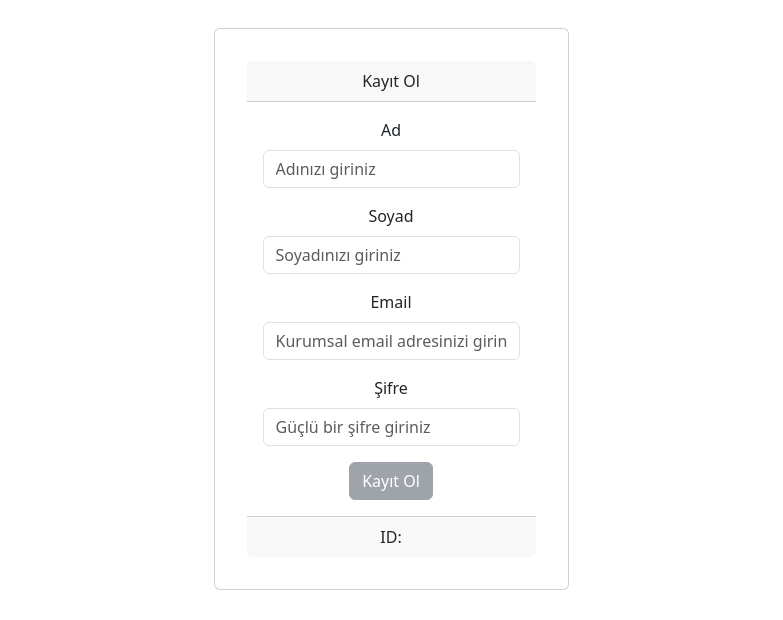
it: Register Page › Error Messages › Password input throws error for 2 chars
The width and height of the screenshot is (783, 620).
Type "1234" into the password field with test id "password-input" at (392, 427), box [263,408,520,446]
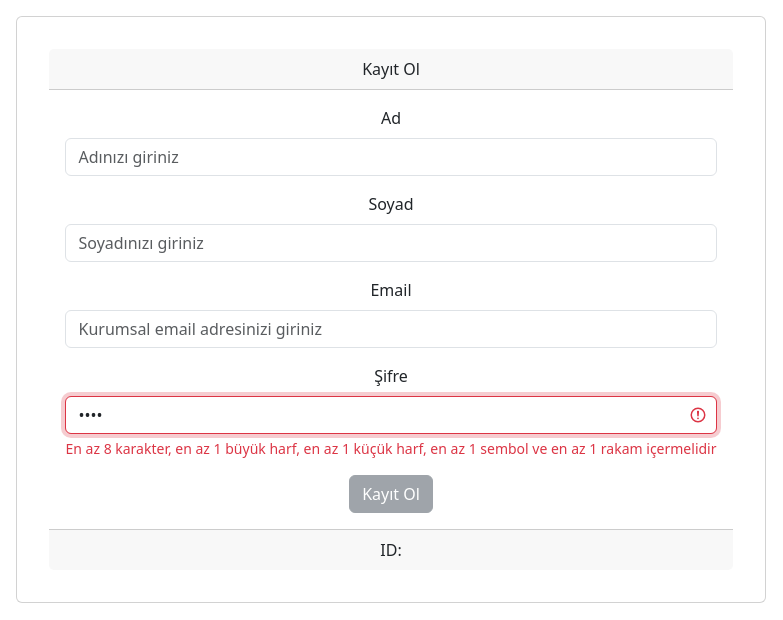
Expected: the text "En az 8 karakter, en az 1 büyük harf, en az 1 küçük harf, en az 1 sembol ve en az 1 rakam içermelidir" is shown, [65,439,716,458]
